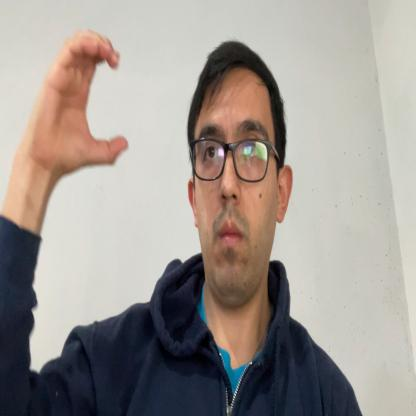C: (44, 26, 130, 173)
